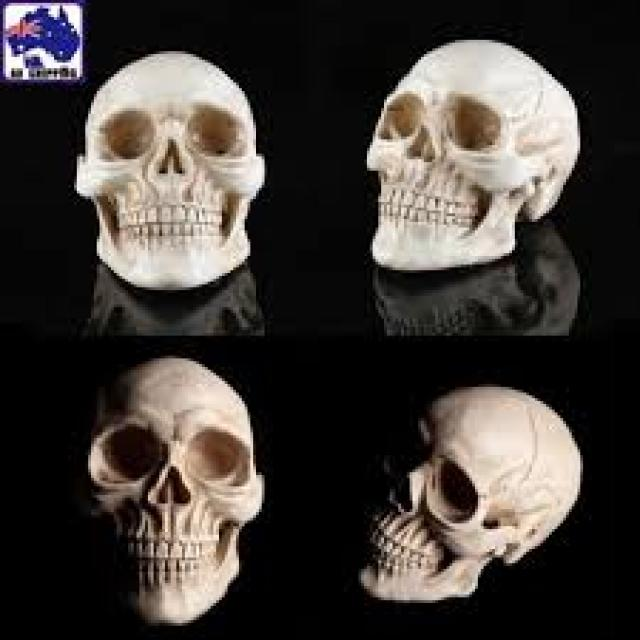skull: (70, 31, 279, 330)
